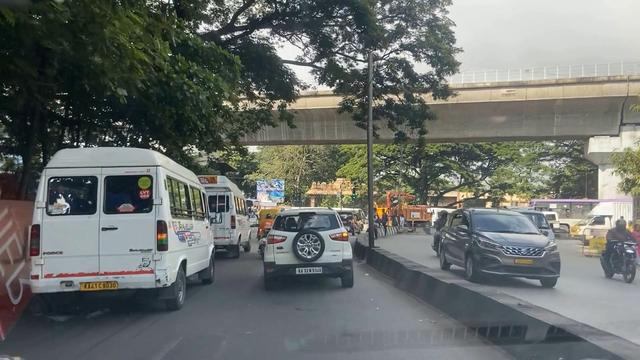HMV: (45, 149, 210, 322), (208, 173, 251, 257)
LMV: (270, 199, 356, 289)
